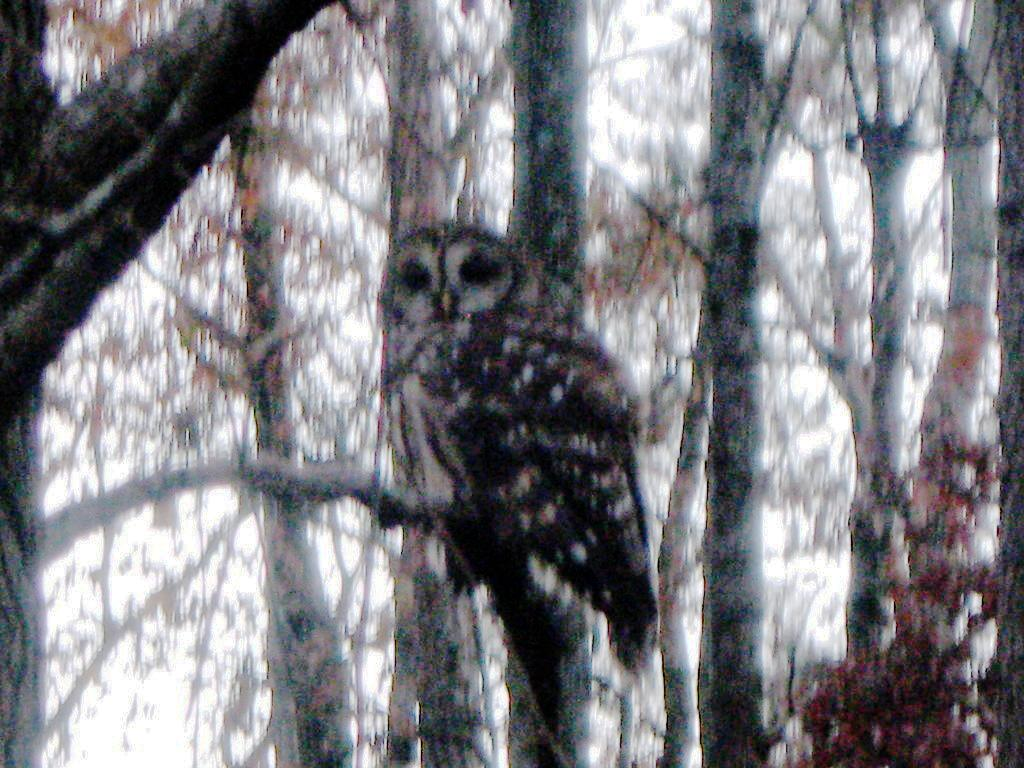Owl: (373, 214, 656, 692)
